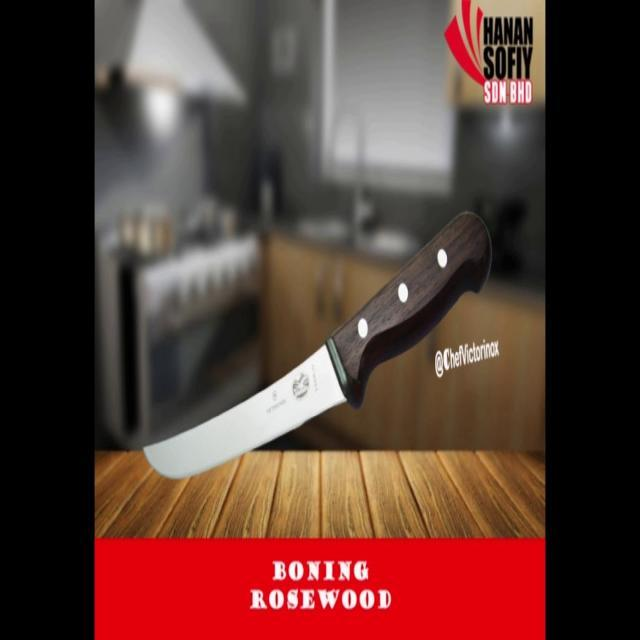Pisau: (135, 200, 499, 489)
